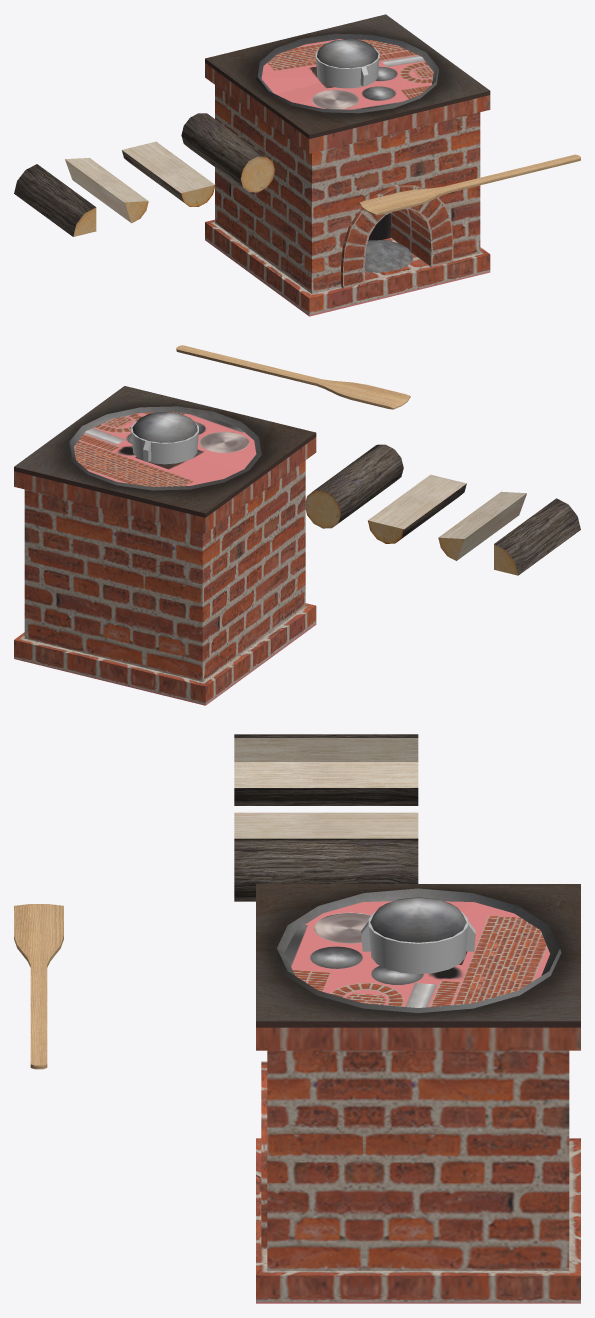
File: chapter3.fbx
3 views of the same model, one above another, from view 1: azimuth 30°, elevation 25°; view 2: azimuth 150°, elevation 25°; view 3: azimuth 270°, elevation 25° (orthographic). The views are drawn at different scales.
Visible parts, largest first — view 1: Red_stove, Soup, fire_wood.003, fire_wood.002, fire_wood, fire_wood.001, Stir_stick, pot, lid, barrel; view 2: Red_stove, Soup, fire_wood.003, fire_wood.002, fire_wood, fire_wood.001, Stir_stick, pot, lid, barrel; view 3: Red_stove, Soup, fire_wood.003, fire_wood.001, fire_wood.002, fire_wood, pot, Stir_stick, barrel, lid.
Boxes of the visible parts, <box> form: Red_stove: <box>205,14,490,316</box>; Soup: <box>261,39,433,109</box>; fire_wood.003: <box>181,113,274,192</box>; fire_wood.002: <box>14,164,96,236</box>; fire_wood: <box>122,141,215,206</box>; fire_wood.001: <box>65,157,148,223</box>; Stir_stick: <box>359,154,580,215</box>; pot: <box>256,33,438,113</box>; lid: <box>317,39,378,68</box>; barrel: <box>315,47,379,88</box>; Red_stove: <box>14,386,316,705</box>; Soup: <box>74,412,256,486</box>; fire_wood.003: <box>304,444,403,528</box>; fire_wood.002: <box>494,498,580,575</box>; fire_wood: <box>368,474,466,543</box>; fire_wood.001: <box>438,491,526,560</box>; Stir_stick: <box>176,345,410,409</box>; pot: <box>68,406,261,490</box>; lid: <box>132,412,197,442</box>; barrel: <box>131,421,198,464</box>; Red_stove: <box>256,884,580,1303</box>; Soup: <box>284,901,549,1007</box>; fire_wood.003: <box>234,840,418,901</box>; fire_wood.001: <box>234,762,418,805</box>; fire_wood.002: <box>234,734,418,761</box>; fire_wood: <box>234,812,418,839</box>; pot: <box>275,888,561,1013</box>; Stir_stick: <box>14,904,63,1069</box>; barrel: <box>361,911,475,974</box>; lid: <box>370,897,466,942</box>.
Bounding box in the file's own units: 19.74 × 14.04 × 8.98.
